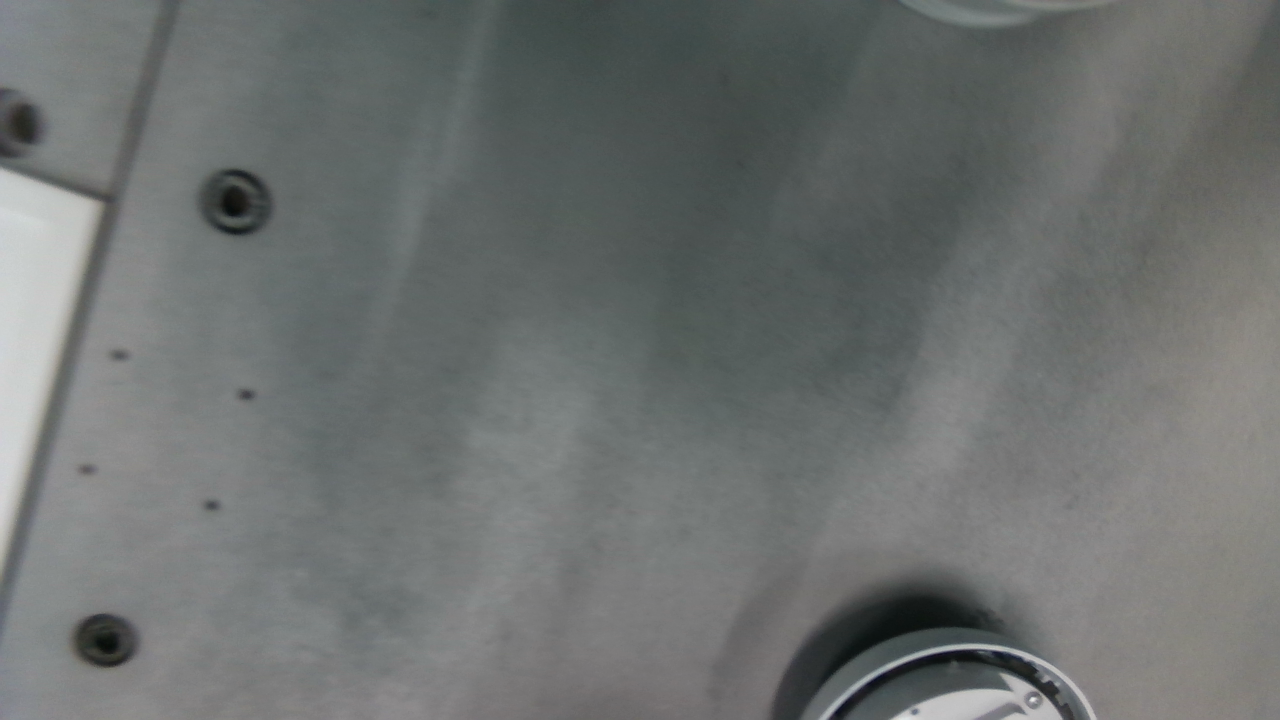HexScrew: (1026, 691, 1046, 712)
